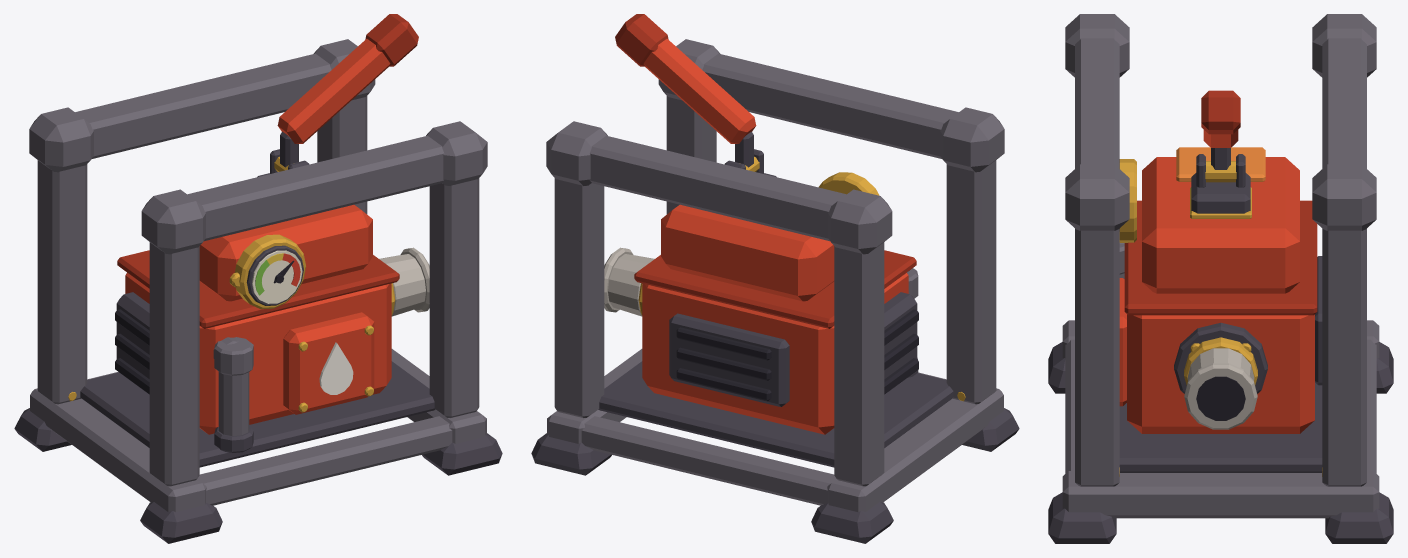
The model's file is WaterPump.fbx.
The picture shows the model from 3 angles, left to right: view 1: azimuth 30°, elevation 25°; view 2: azimuth 150°, elevation 25°; view 3: azimuth 270°, elevation 25°; orthographic projection. The views are drawn at different scales.
Parts seen in each view (by area): view 1: Frame, Body, Lever, Gauge, OutputConnector; view 2: Frame, Body, Lever, OutputConnector, Gauge; view 3: Frame, Body, OutputConnector, Lever, Gauge.
Part boxes in pixels (left/top/right/bottom): Frame: left=14, top=39, right=502, bottom=543; Body: left=115, top=149, right=399, bottom=452; Lever: left=274, top=14, right=418, bottom=171; Gauge: left=229, top=234, right=305, bottom=309; OutputConnector: left=379, top=247, right=429, bottom=316; Frame: left=531, top=39, right=1019, bottom=543; Body: left=634, top=149, right=918, bottom=434; Lever: left=615, top=14, right=759, bottom=171; OutputConnector: left=604, top=247, right=654, bottom=316; Gauge: left=818, top=172, right=879, bottom=195; Frame: left=1048, top=14, right=1393, bottom=543; Body: left=1119, top=147, right=1322, bottom=433; OutputConnector: left=1174, top=322, right=1267, bottom=429; Lever: left=1201, top=90, right=1240, bottom=182; Gauge: left=1119, top=159, right=1136, bottom=242.
Bounding box in the file's own units: 0.8771 × 0.9767 × 0.6985.
